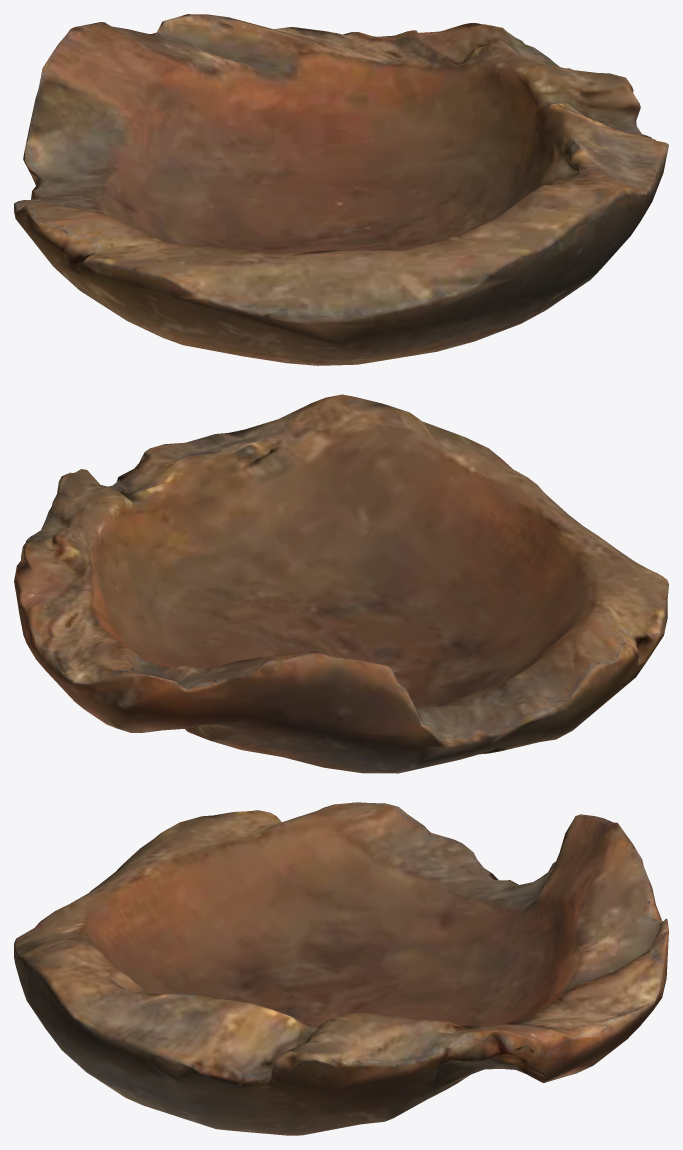
The model's file is wooden_bowl_01.glb.
The picture shows the model from 3 angles, top to bottom: view 1: azimuth 30°, elevation 25°; view 2: azimuth 150°, elevation 25°; view 3: azimuth 270°, elevation 25°; orthographic projection. The views are drawn at different scales.
Visible parts, largest first — view 1: wooden_bowl_01; view 2: wooden_bowl_01; view 3: wooden_bowl_01.
Boxes of the visible parts, bbox=[...] form: wooden_bowl_01: bbox=[14, 14, 668, 365]; wooden_bowl_01: bbox=[14, 394, 668, 773]; wooden_bowl_01: bbox=[14, 802, 668, 1135].
Size of the model in its own units: 0.3127 by 0.0935 by 0.3088.
1 material, 1 textured.
